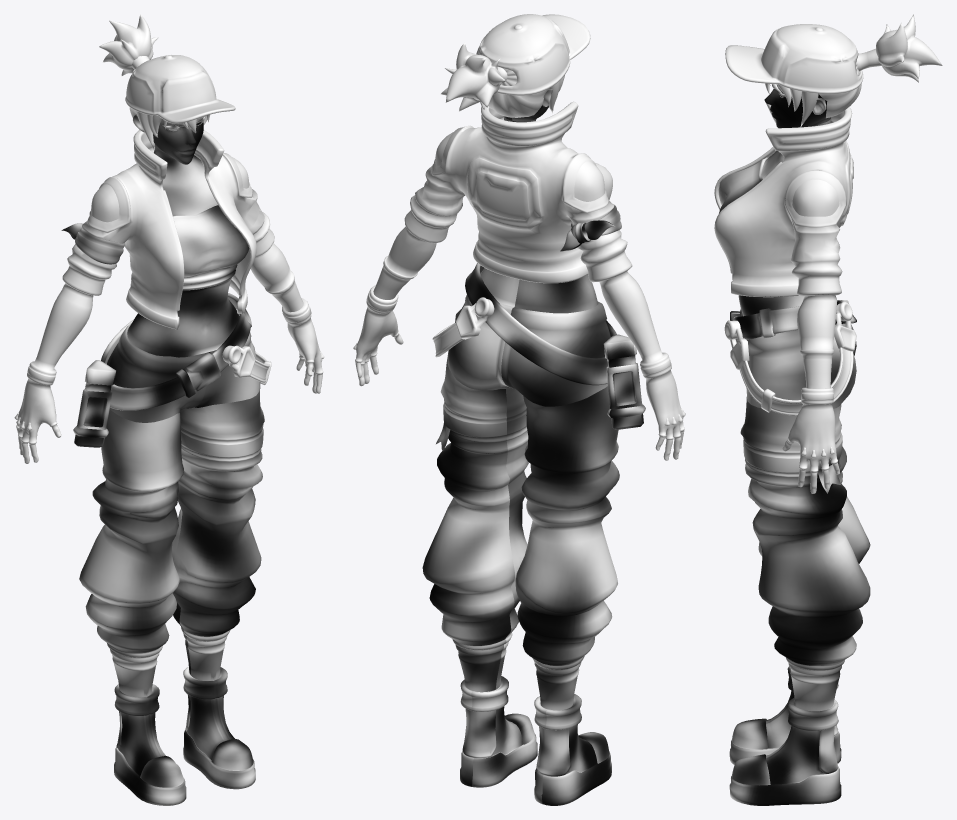
The model's file is SM_Vefects_Vexa_Unity_01_1.glb.
The picture shows the model from 3 angles, left to right: view 1: azimuth 30°, elevation 25°; view 2: azimuth 150°, elevation 25°; view 3: azimuth 270°, elevation 25°; orthographic projection. The views are drawn at different scales.
Visible parts, largest first — view 1: SM_Vefects_Vexa_Unity_01; view 2: SM_Vefects_Vexa_Unity_01; view 3: SM_Vefects_Vexa_Unity_01.
Boxes of the visible parts, <box> form: SM_Vefects_Vexa_Unity_01: <box>14,14,324,805</box>; SM_Vefects_Vexa_Unity_01: <box>353,14,685,805</box>; SM_Vefects_Vexa_Unity_01: <box>714,14,942,805</box>.
Size of the model in its own units: 0.00775 by 0.0177 by 0.00482.
2 materials, 1 textured.
